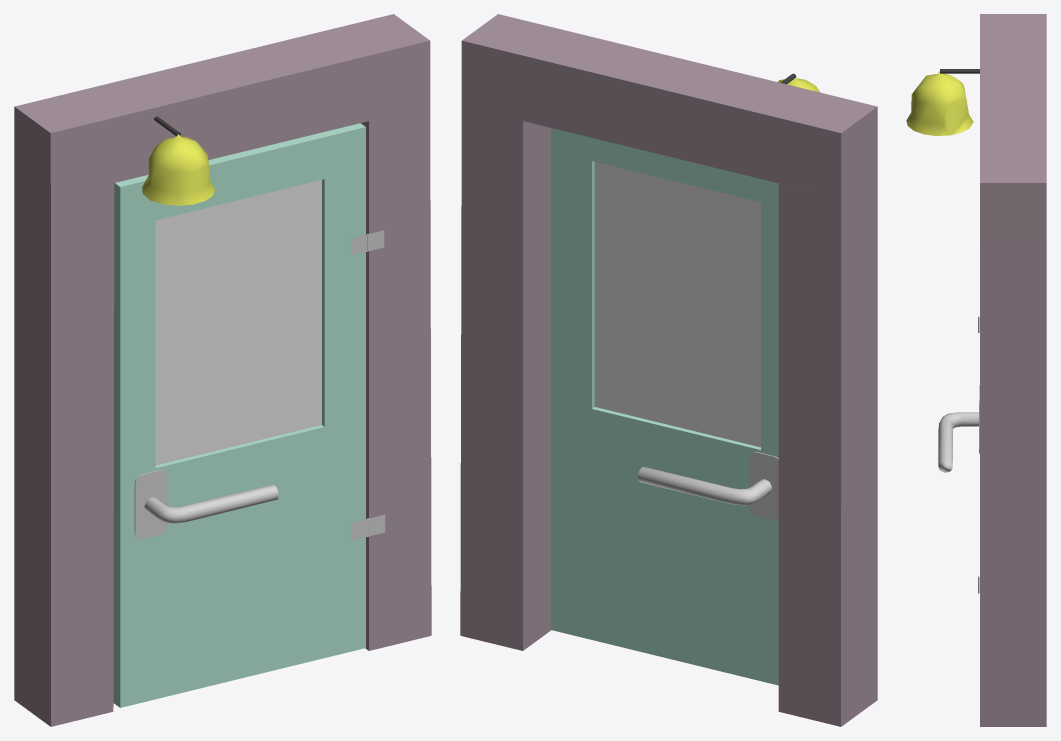
The model's file is kapı.fbx.
3 views of the same model, side by side, from view 1: azimuth 30°, elevation 25°; view 2: azimuth 150°, elevation 25°; view 3: azimuth 270°, elevation 25° (orthographic). The views are drawn at different scales.
Visible parts, largest first — view 1: kirişler, kapı, cam, çan, kapıkolu; view 2: kirişler, kapı, cam, kapıkolu2; view 3: kirişler, çan, kapıkolu.
Part boxes in pixels (x1,y1,x2,y2): kirişler: [14, 14, 431, 726]; kapı: [113, 123, 367, 707]; cam: [155, 180, 321, 465]; çan: [142, 134, 215, 205]; kapıkolu: [144, 484, 278, 523]; kirişler: [460, 14, 877, 726]; kapı: [550, 128, 778, 685]; cam: [594, 162, 760, 447]; kapıkolu2: [638, 466, 771, 505]; kirişler: [980, 14, 1046, 726]; çan: [906, 71, 973, 135]; kapıkolu: [938, 412, 978, 472].
Bounding box in the file's own units: 602 × 899 × 210.
